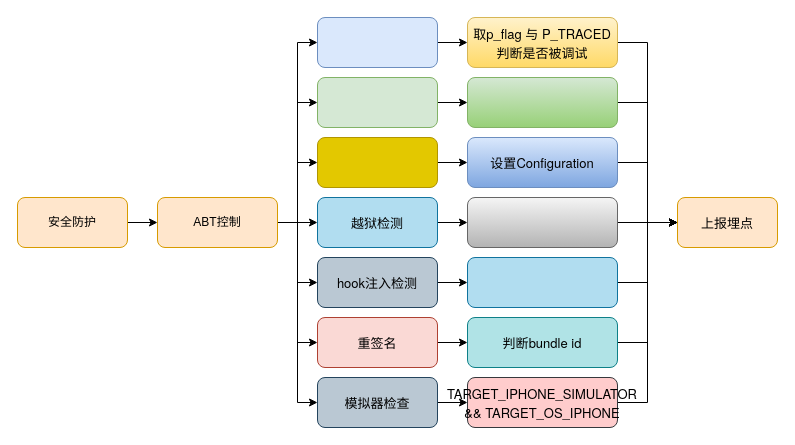
The diagram is 795 pixels wide and 445 high, and some of its shapes have lost their labels. Here are the shapes that lost their labels. From the top down, the centre of each, then its label:
(x=377, y=42): 调试检测
(x=377, y=102): 禁止调试
(x=542, y=102): 汇编执行 ptrace 指令
(x=377, y=162): 网络代理
(x=542, y=222): 多种方法判断越狱特征标识
(x=542, y=282): 白名单判断加载进入的库和路径
